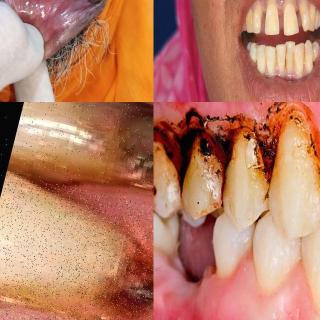cavities: (55, 221, 153, 320), (80, 103, 154, 204)
maligned: (293, 44, 305, 78), (299, 0, 311, 33), (285, 41, 296, 75), (276, 41, 286, 76)
stains: (282, 46, 290, 73), (272, 49, 280, 73), (302, 44, 308, 68), (291, 51, 297, 72)
